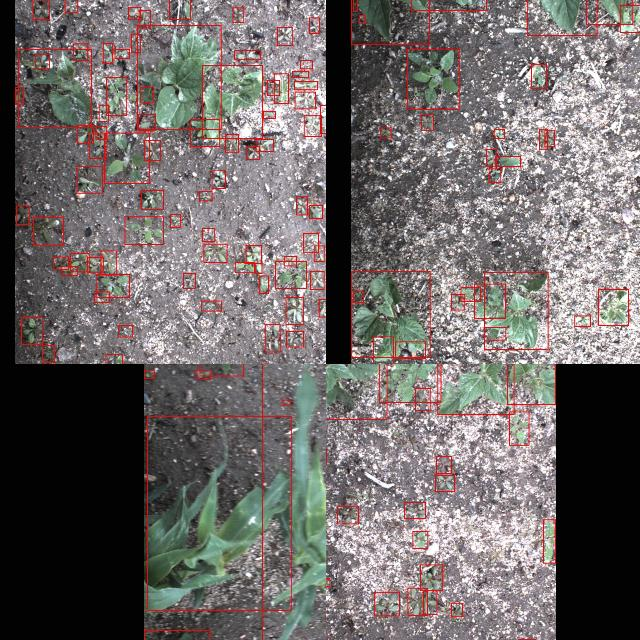crop: (147, 416, 291, 610), (262, 364, 326, 640), (137, 25, 221, 129), (350, 271, 430, 357), (18, 49, 90, 127), (484, 272, 548, 350), (202, 65, 262, 138), (438, 364, 514, 414), (351, 0, 429, 43), (326, 364, 386, 419), (527, 0, 597, 36), (506, 364, 555, 404), (586, 0, 633, 25), (598, 289, 628, 325), (274, 74, 288, 104)
weed: (407, 49, 459, 109), (379, 364, 440, 402), (104, 133, 150, 183), (125, 216, 164, 244), (474, 284, 506, 318), (33, 217, 63, 245), (96, 274, 130, 298), (190, 120, 220, 146), (106, 76, 126, 115), (276, 262, 306, 288), (76, 165, 102, 192), (509, 412, 529, 444), (374, 592, 400, 616), (421, 565, 444, 591), (20, 318, 42, 344), (373, 336, 393, 364), (408, 588, 428, 616), (620, 5, 640, 32), (544, 520, 556, 562), (199, 364, 243, 375), (395, 342, 425, 358), (286, 298, 304, 324), (141, 190, 163, 210), (88, 134, 105, 158), (169, 0, 190, 19), (204, 244, 226, 262), (266, 324, 280, 352), (100, 251, 116, 275), (304, 115, 322, 136), (338, 506, 358, 524), (294, 92, 316, 108), (404, 503, 426, 519), (532, 64, 546, 88), (423, 591, 437, 615), (70, 254, 88, 272), (144, 140, 160, 160), (32, 0, 48, 20), (435, 475, 455, 491), (416, 388, 430, 410), (277, 27, 293, 46), (77, 125, 93, 143), (246, 245, 262, 263), (286, 331, 304, 347), (436, 456, 452, 474), (484, 326, 506, 339), (304, 233, 318, 253), (460, 287, 480, 301), (234, 50, 260, 60), (138, 114, 154, 130), (87, 257, 103, 273), (412, 532, 428, 548), (212, 170, 226, 188), (310, 271, 324, 289), (294, 80, 318, 90), (496, 156, 520, 166), (266, 80, 280, 96), (73, 44, 87, 60), (296, 197, 308, 215), (256, 139, 274, 151), (226, 134, 238, 152), (138, 10, 150, 28), (16, 206, 28, 224), (451, 294, 464, 310), (103, 43, 113, 63), (202, 301, 222, 311), (235, 263, 255, 273), (35, 54, 49, 68), (54, 256, 68, 270), (140, 87, 152, 103), (42, 346, 54, 362), (421, 114, 433, 130), (247, 146, 260, 160), (130, 34, 140, 52), (259, 276, 269, 294), (105, 354, 122, 364), (486, 150, 496, 167), (64, 0, 77, 13), (320, 105, 326, 133), (310, 205, 322, 219), (183, 274, 195, 288), (202, 228, 214, 242), (232, 8, 244, 22), (489, 169, 501, 183), (94, 292, 110, 302), (314, 246, 324, 262), (575, 316, 591, 326), (539, 130, 547, 150), (545, 130, 555, 146), (95, 126, 106, 140), (114, 50, 130, 59), (128, 7, 140, 19), (318, 299, 326, 317), (309, 18, 319, 32), (98, 106, 108, 120), (62, 266, 76, 276), (118, 326, 132, 336), (196, 370, 210, 380), (452, 603, 462, 617), (170, 215, 180, 228), (15, 88, 23, 104), (200, 191, 212, 201), (284, 256, 296, 266), (380, 128, 390, 138), (353, 292, 363, 302), (293, 71, 309, 77), (300, 61, 312, 69), (254, 263, 262, 273), (494, 130, 504, 138), (144, 371, 154, 379), (263, 112, 275, 118), (359, 15, 365, 23), (353, 0, 357, 11), (283, 400, 291, 404), (326, 579, 330, 587)
